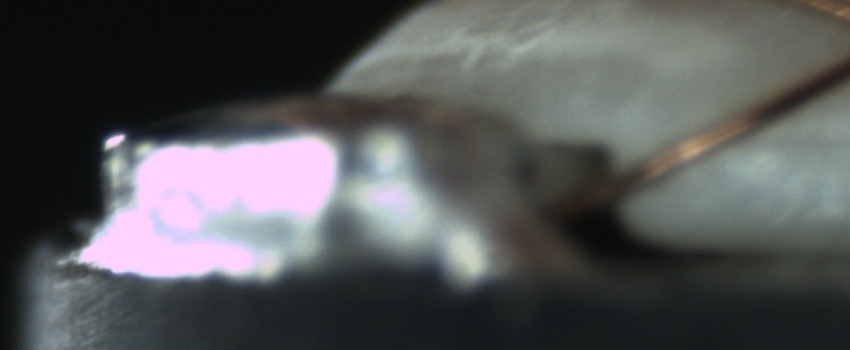DL: (752, 108, 849, 174)
